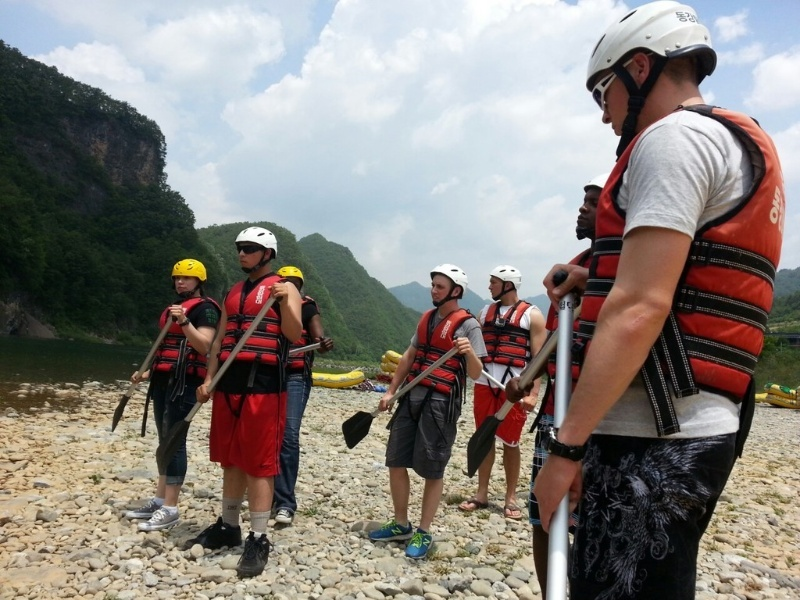Baret: (581, 2, 719, 66), (234, 227, 280, 249), (431, 263, 469, 286), (173, 257, 209, 281), (491, 265, 525, 284)
